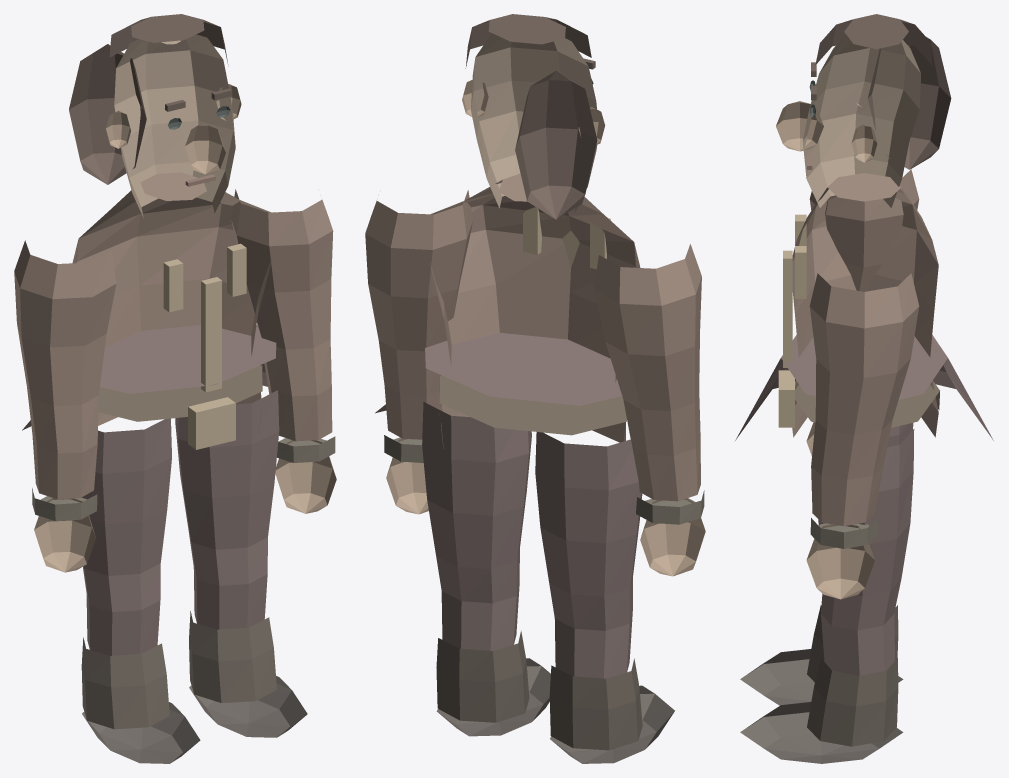
File: merchant_1000_2.glb
3 renders of one model, left to right at view 1: azimuth 30°, elevation 25°; view 2: azimuth 150°, elevation 25°; view 3: azimuth 270°, elevation 25°, orthographic. The views are drawn at different scales.
Parts seen in each view (by area): view 1: leftArm_0, body_0, rightLeg_0, rightArm_0, leftLeg_0, head_0, body_1, leftLeg_1, rightLeg_1, head_10, body_2, rightLeg_2 (+12 smaller); view 2: leftLeg_0, rightLeg_0, body_0, leftArm_0, rightArm_0, body_1, head_0, head_10, leftLeg_1, rightLeg_1, body_2, leftArm_2 (+8 smaller); view 3: rightArm_0, head_0, rightLeg_0, body_0, rightLeg_1, leftArm_0, rightLeg_2, body_1, head_10, rightArm_2, head_9, leftLeg_2 (+8 smaller).
Boxes of the visible parts, <box> form: leftArm_0: <box>14,240,116,499</box>; body_0: <box>72,172,271,433</box>; rightLeg_0: <box>175,390,279,629</box>; rightArm_0: <box>231,189,333,441</box>; leftLeg_0: <box>82,418,171,655</box>; head_0: <box>114,34,235,217</box>; body_1: <box>22,325,276,430</box>; leftLeg_1: <box>81,637,169,729</box>; rightLeg_1: <box>189,611,276,703</box>; head_10: <box>69,44,146,184</box>; body_2: <box>98,365,262,421</box>; rightLeg_2: <box>189,676,307,737</box>; leftLeg_0: <box>535,432,642,678</box>; rightLeg_0: <box>422,402,531,650</box>; body_0: <box>430,173,640,448</box>; leftArm_0: <box>594,244,701,501</box>; rightArm_0: <box>365,190,472,439</box>; body_1: <box>375,332,622,413</box>; head_0: <box>471,34,597,213</box>; head_10: <box>515,70,597,219</box>; leftLeg_1: <box>549,658,642,750</box>; rightLeg_1: <box>436,630,529,722</box>; body_2: <box>439,375,626,435</box>; leftArm_2: <box>640,498,705,576</box>; rightArm_0: <box>809,273,919,526</box>; head_0: <box>802,35,920,207</box>; rightLeg_0: <box>818,429,914,675</box>; body_0: <box>792,173,938,437</box>; rightLeg_1: <box>807,658,898,746</box>; leftArm_0: <box>809,169,919,291</box>; rightLeg_2: <box>740,702,903,763</box>; body_1: <box>735,335,993,440</box>; head_10: <box>867,37,951,169</box>; rightArm_2: <box>806,524,874,599</box>; head_9: <box>815,14,932,65</box>; leftLeg_2: <box>740,649,903,705</box>.
Bounding box in the file's own units: 0.774 × 1.66 × 0.56.
